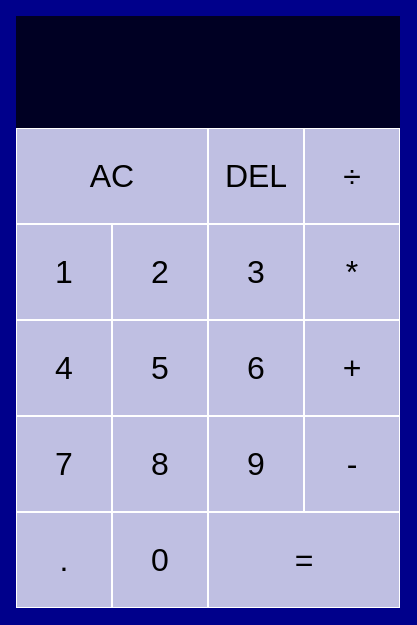
Test: Calculator › performs subtraction correctly
What coordinates should you click on to do the following:
click the button with test id "five"
I would click on:
 (160, 368)
Its box is [112,320,208,416].
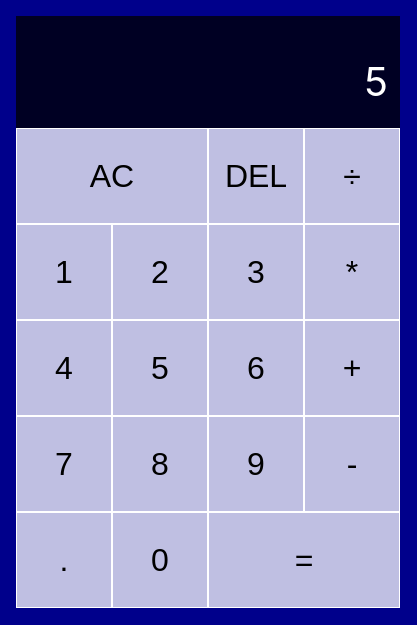
What coordinates should you click on to do the following:
click the button with test id "subtraction"
I would click on:
 (352, 464)
Its box is [304,416,400,512].
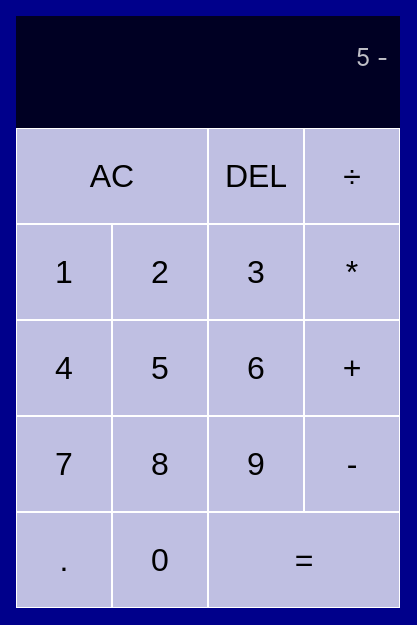
What coordinates should you click on to do the following:
click the button with test id "two"
I would click on:
 (160, 272)
Its box is [112,224,208,320].
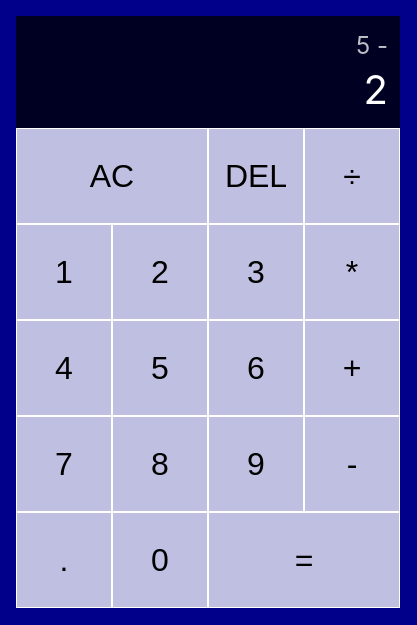
What coordinates should you click on to do the following:
click the button "="
I would click on:
 (304, 560)
Its box is [208,512,400,608].
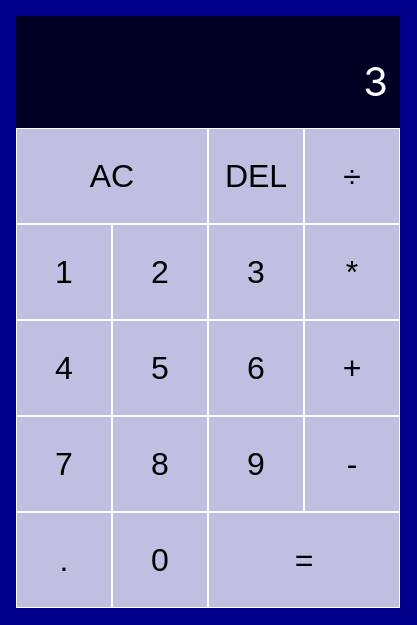
Result: the text with test id "current-operand" reads "3" at [363,57,388,106]
